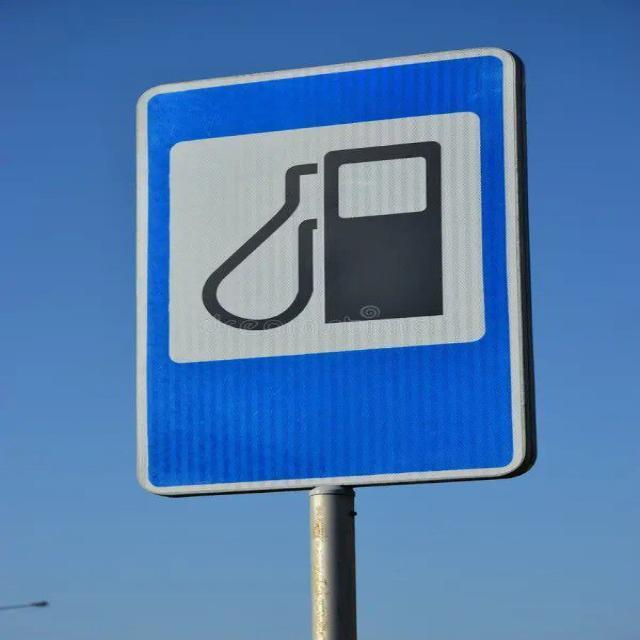petrol pump ahead: (156, 96, 493, 381)
